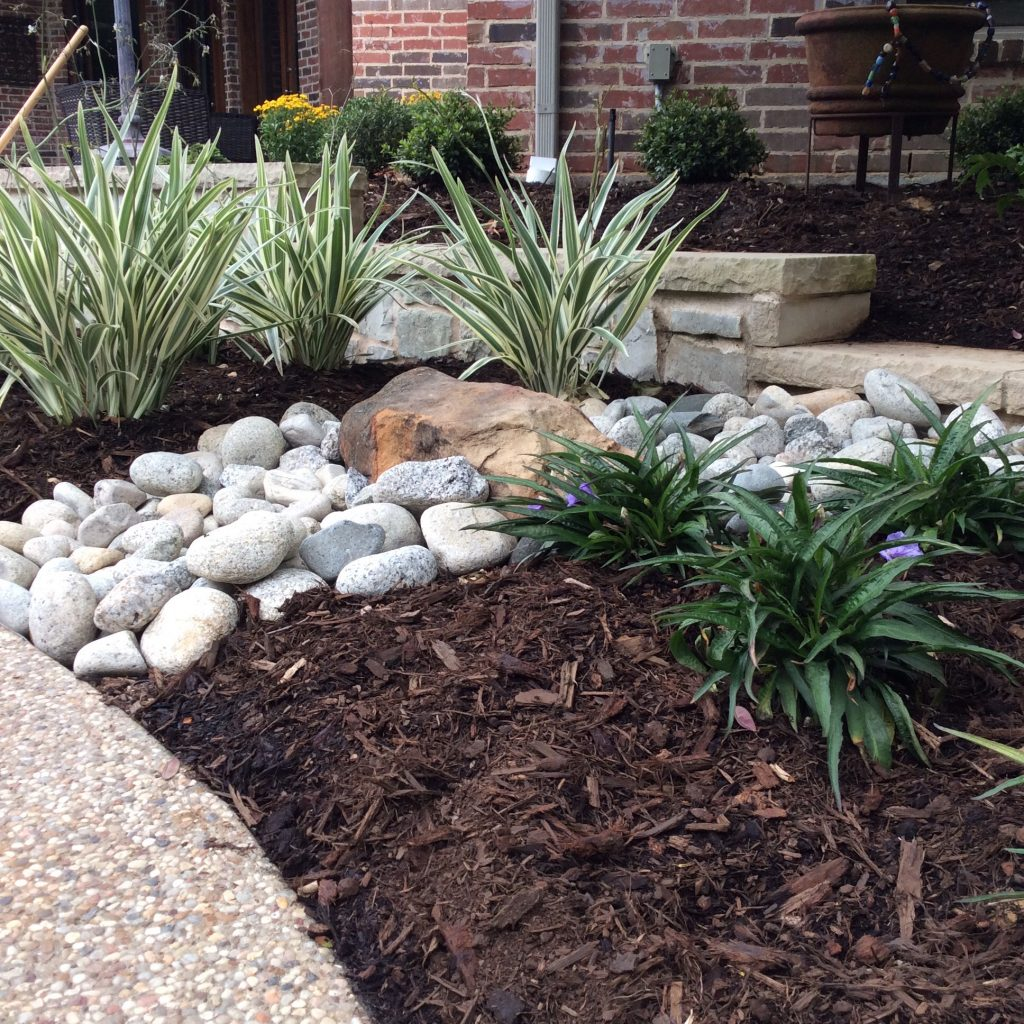dirt: (148, 579, 1023, 1018)
rock: (1, 360, 1004, 681)
